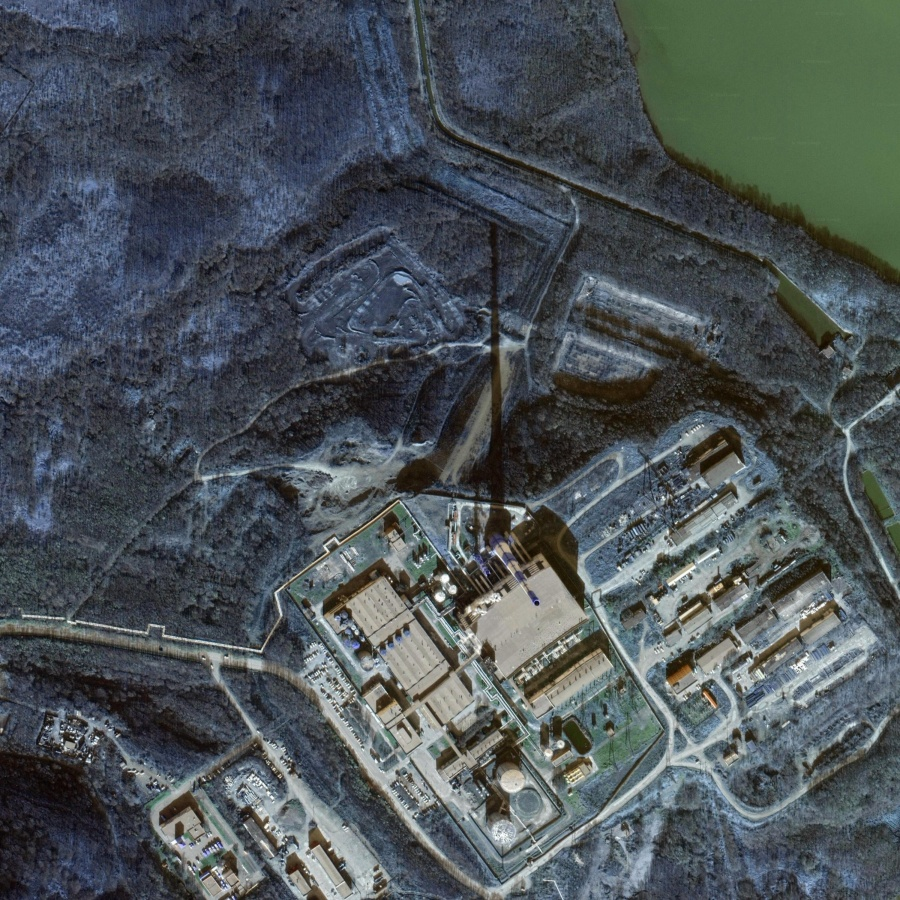PowerPlant: (321, 485, 636, 849)
